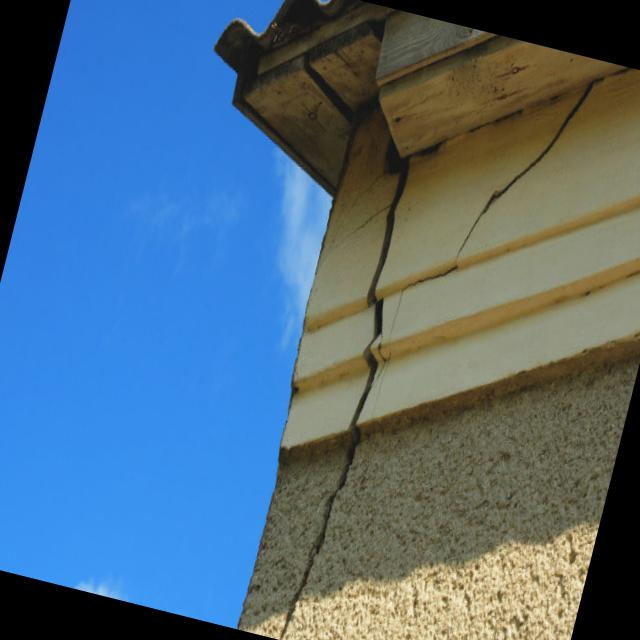crack: (261, 124, 444, 640), (375, 38, 601, 412)
